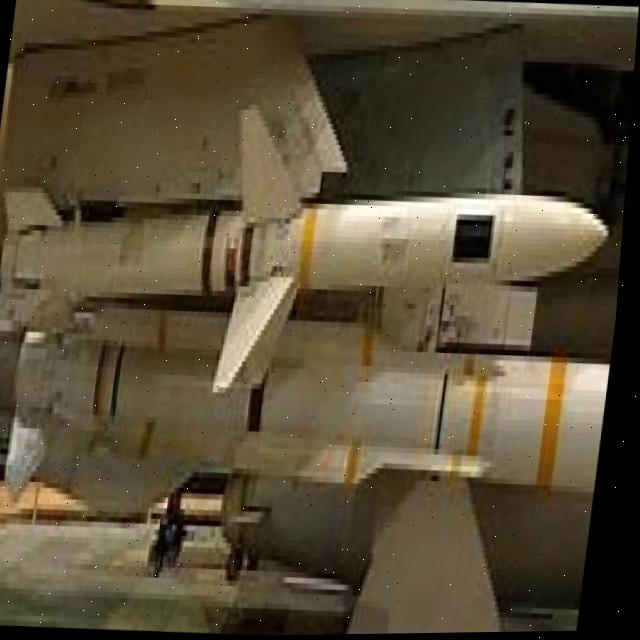missile: (0, 72, 629, 413), (0, 296, 621, 550)
